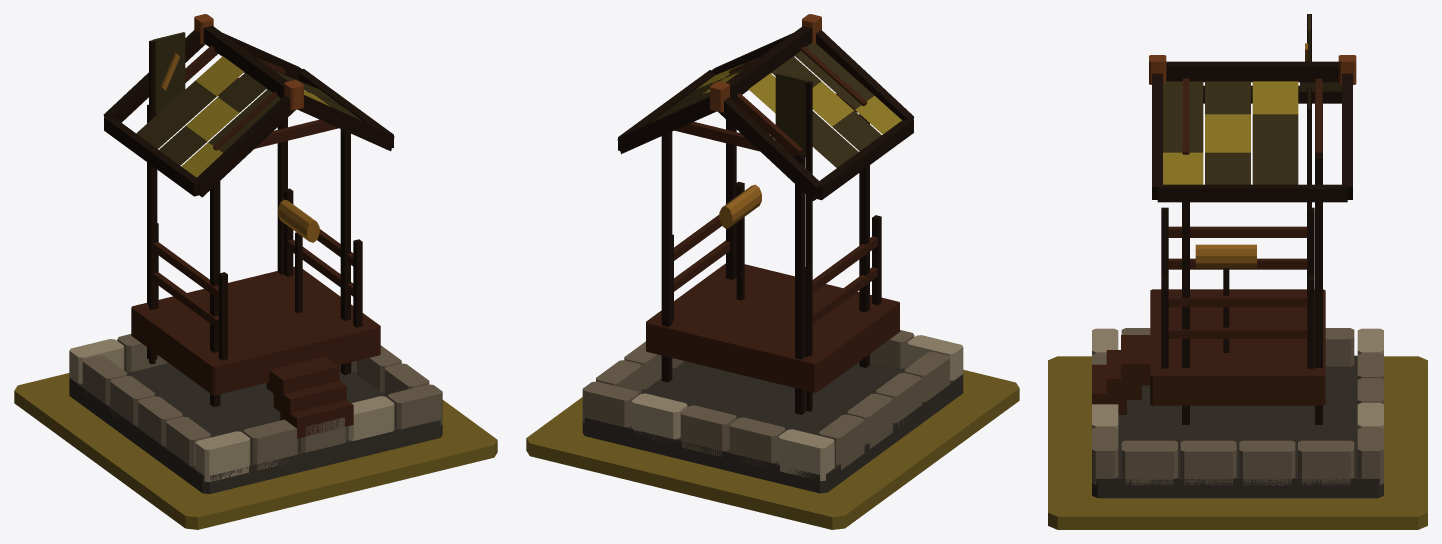
The model's file is scout_post_t2.glb.
The picture shows the model from 3 angles, left to right: view 1: azimuth 30°, elevation 25°; view 2: azimuth 150°, elevation 25°; view 3: azimuth 270°, elevation 25°; orthographic projection. The views are drawn at different scales.
Parts seen in each view (by area): view 1: MMR | scout_post | T02 Architecture.001, MMR | scout_post | Tier 02 Ground.001; view 2: MMR | scout_post | T02 Architecture.001, MMR | scout_post | Tier 02 Ground.001; view 3: MMR | scout_post | T02 Architecture.001, MMR | scout_post | Tier 02 Ground.001.
Part boxes in pixels (<box>): MMR | scout_post | T02 Architecture.001: <box>69,14,442,493</box>; MMR | scout_post | Tier 02 Ground.001: <box>14,373,497,529</box>; MMR | scout_post | T02 Architecture.001: <box>582,14,963,493</box>; MMR | scout_post | Tier 02 Ground.001: <box>526,369,1019,529</box>; MMR | scout_post | T02 Architecture.001: <box>1092,14,1383,498</box>; MMR | scout_post | Tier 02 Ground.001: <box>1048,356,1427,529</box>.
Bounding box in the file's own units: 1.3 × 1.51 × 1.3.
Materials: 1 (1 with a texture image).
